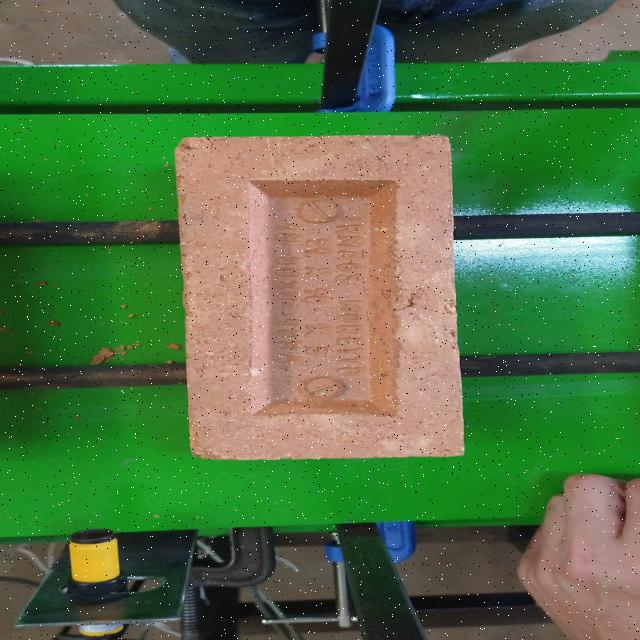bricks: (178, 136, 465, 460)
